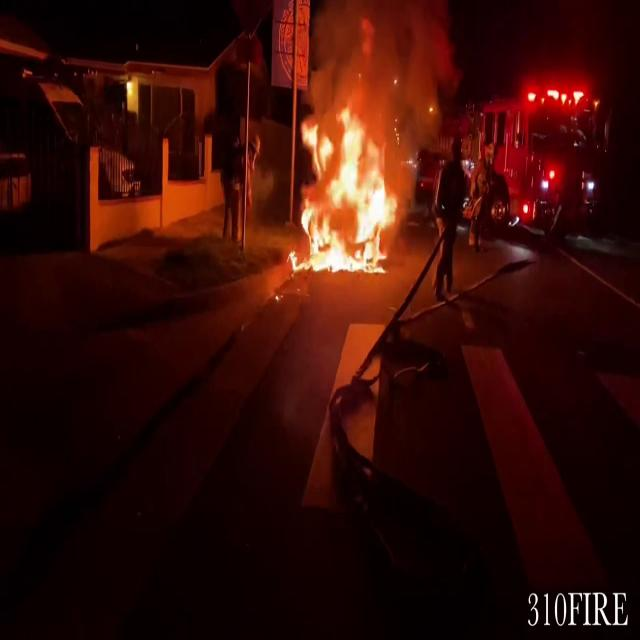Fire: (293, 102, 401, 277)
